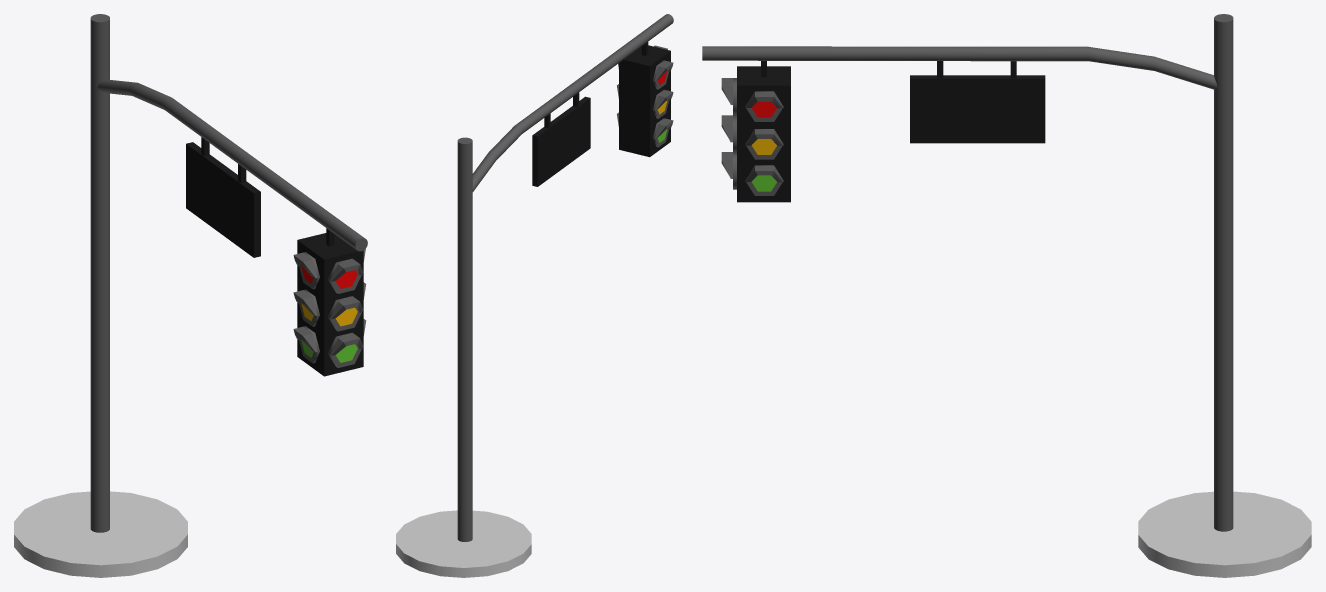
Rendered from StopLight_1370.gltf.
3 views of the same model, side by side, from view 1: azimuth 30°, elevation 25°; view 2: azimuth 150°, elevation 25°; view 3: azimuth 270°, elevation 25° (orthographic). The views are drawn at different scales.
Visible parts, largest first — view 1: node-0; view 2: node-0; view 3: node-0.
Boxes of the visible parts, x1=… form: node-0: x1=14, y1=14, x2=367, y2=577; node-0: x1=396, y1=14, x2=673, y2=577; node-0: x1=702, y1=14, x2=1311, y2=577.
Bounding box in the file's own units: 35.58 × 116 × 123.
